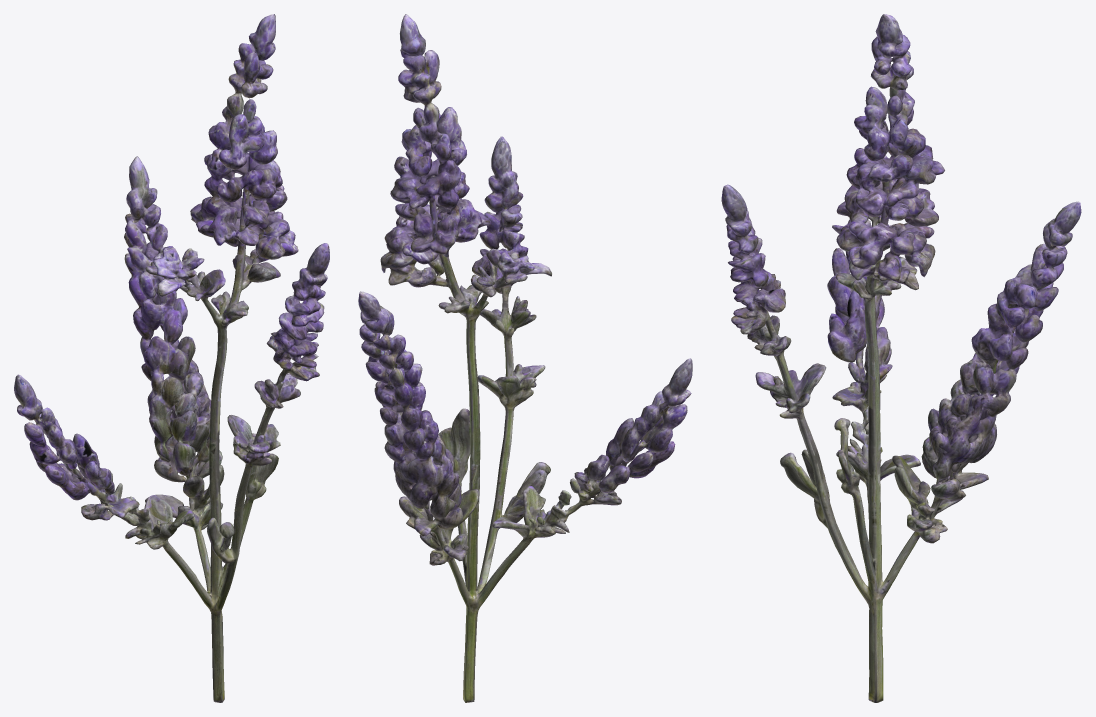
Rendered from lavender.glb.
3 renders of one model, left to right at view 1: azimuth 30°, elevation 25°; view 2: azimuth 150°, elevation 25°; view 3: azimuth 270°, elevation 25°, orthographic. The views are drawn at different scales.
Bounding box in the file's own units: 0.8932 × 2 × 0.9095.
Materials: 1 (1 with a texture image).
